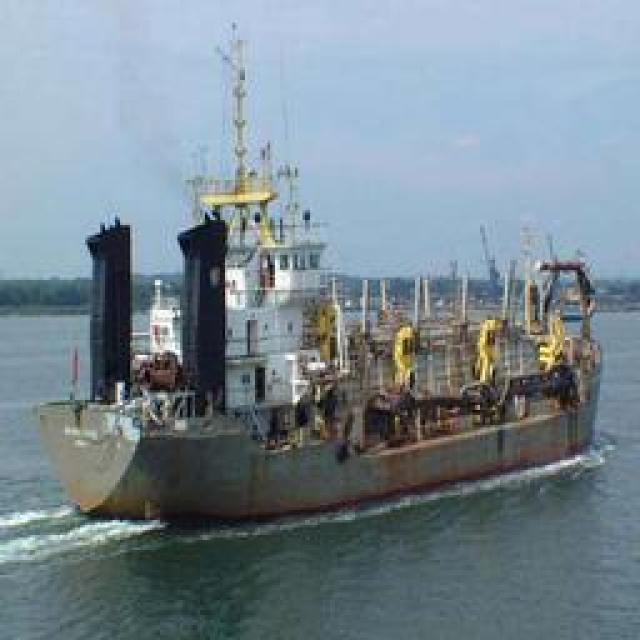ship2: (39, 43, 609, 530)
